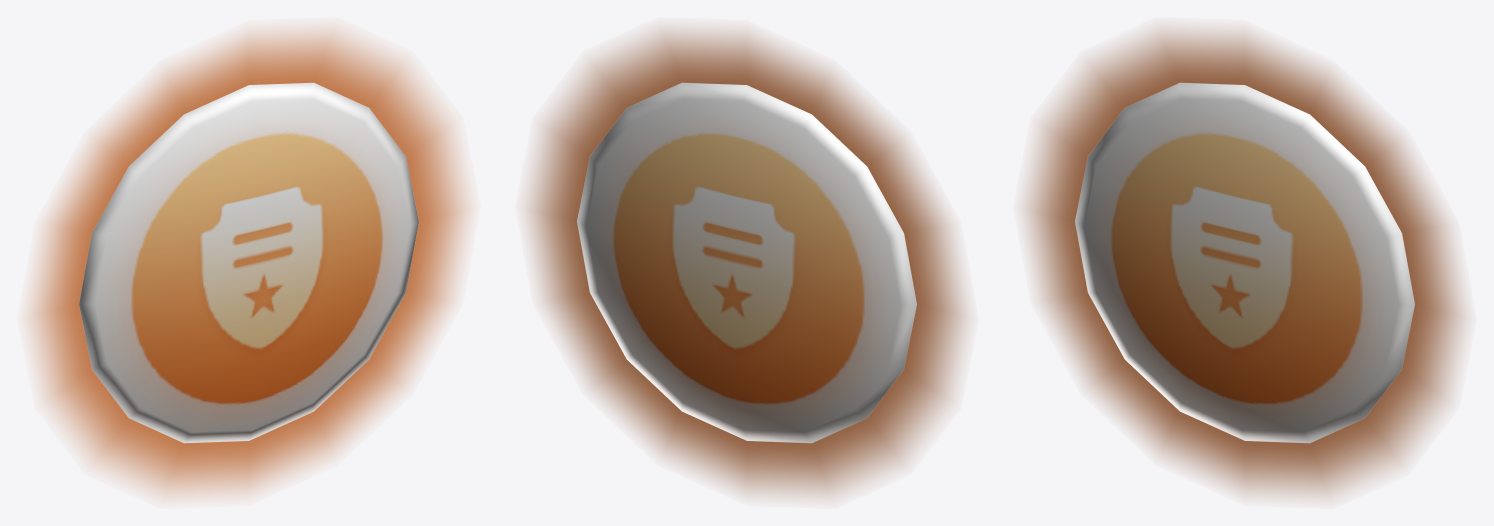
The model's file is fujing_tb.9641290.glb.
3 renders of one model, left to right at view 1: azimuth 30°, elevation 25°; view 2: azimuth 150°, elevation 25°; view 3: azimuth 330°, elevation 25°, orthographic.
Visible parts, largest first — view 1: 辅警图标; view 2: 辅警图标; view 3: 辅警图标.
Boxes of the visible parts, box(x1,y1,x2,y2) form: 辅警图标: box(28, 29, 469, 496); 辅警图标: box(526, 29, 967, 496); 辅警图标: box(1024, 29, 1465, 496).
Bounding box in the file's own units: 0.8291 × 0.8291 × 0.09.
Materials: 2 (2 with a texture image).
